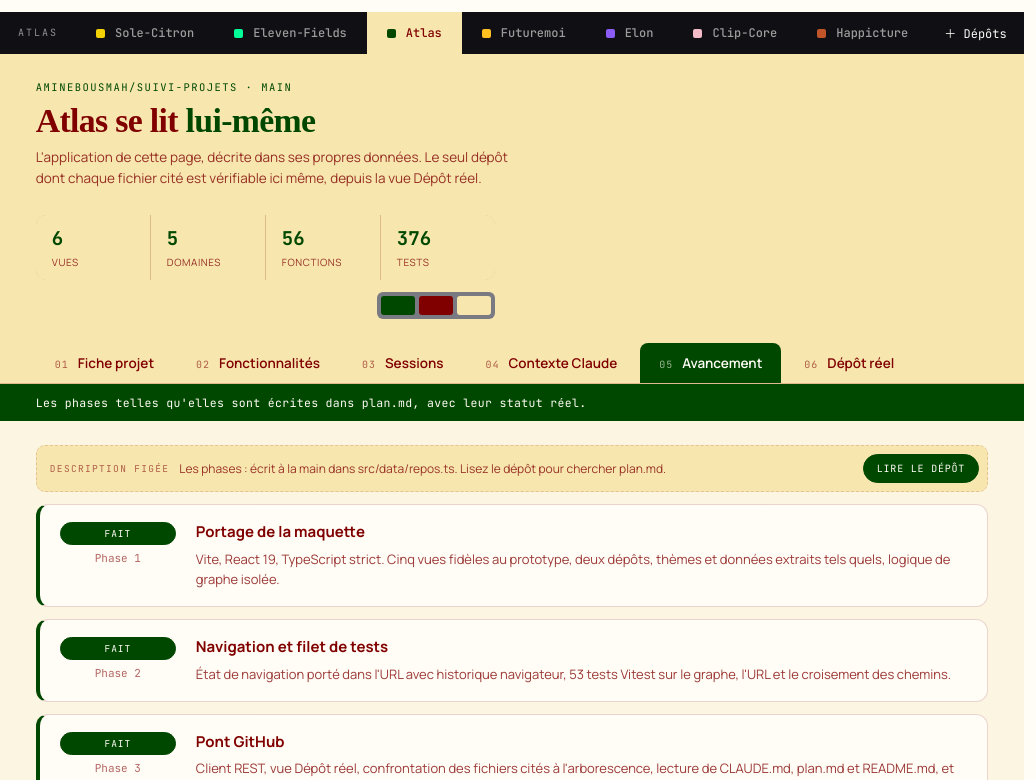
it: lire le dépôt sans quitter la vue › propose de réessayer après un échec
Step 1. Click the button "Lire le dépôt" → (921, 469), box [863, 454, 979, 483]
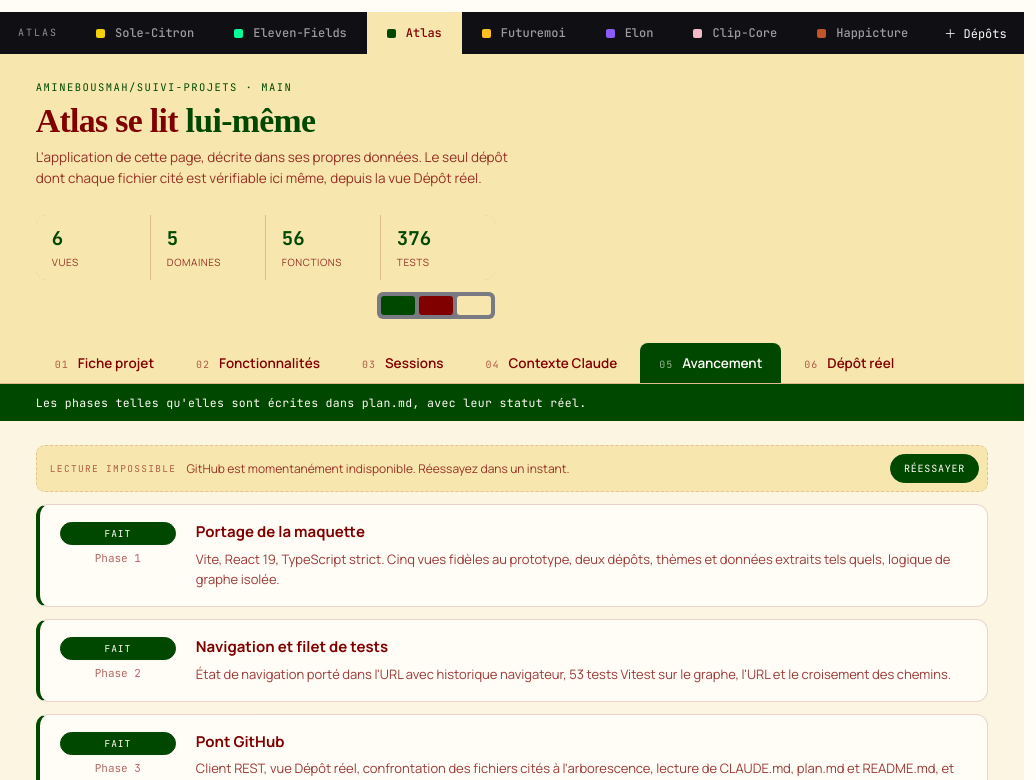
Now the button "Réessayer" is shown, box [890, 454, 979, 483]
Now the text "lecture impossible" is shown, box [50, 462, 176, 475]
Now the text "momentanément indisponible" is shown, box [186, 460, 570, 477]
